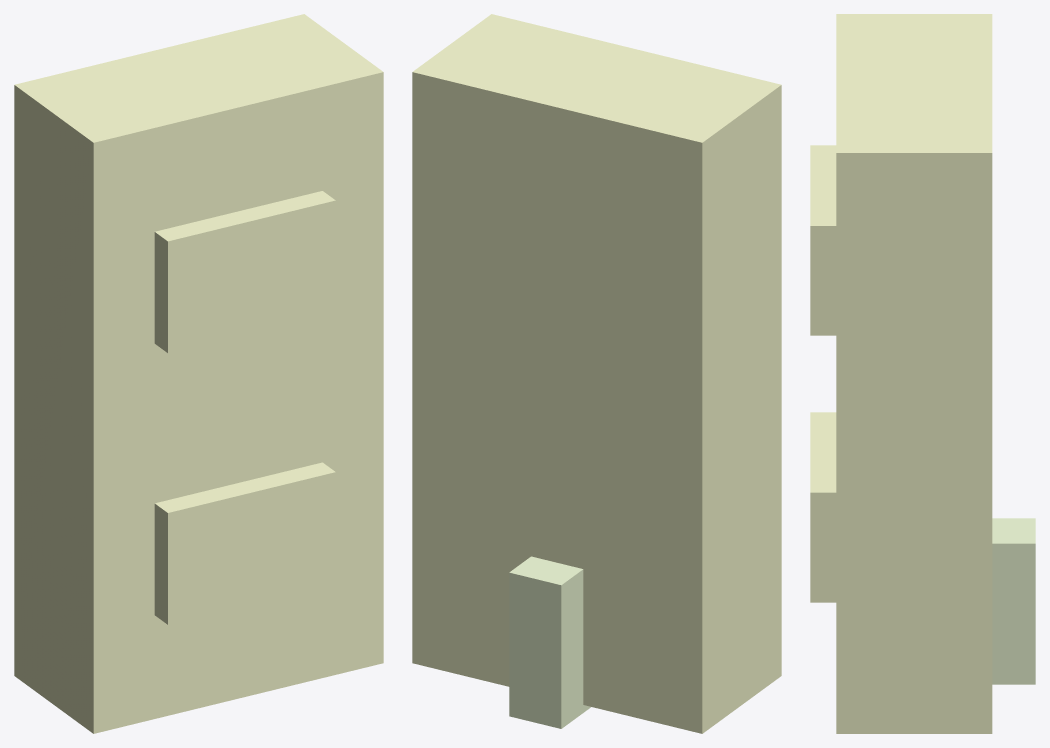
File: signal_lane_control_bicycle_only_2_aspect.glb
The picture shows the model from 3 angles, left to right: view 1: azimuth 30°, elevation 25°; view 2: azimuth 150°, elevation 25°; view 3: azimuth 270°, elevation 25°; orthographic projection.
Visible parts, largest first — view 1: housing, display_bike_green, display_red_x; view 2: housing, bracket; view 3: housing, bracket, display_red_x, display_bike_green.
Part boxes in pixels (bbox=[...]): housing: bbox=[14, 14, 383, 733]; display_bike_green: bbox=[154, 462, 335, 624]; display_red_x: bbox=[154, 191, 335, 353]; housing: bbox=[412, 14, 781, 733]; bracket: bbox=[509, 556, 590, 728]; housing: bbox=[836, 14, 992, 733]; bracket: bbox=[992, 518, 1035, 684]; display_red_x: bbox=[810, 145, 836, 335]; display_bike_green: bbox=[810, 412, 836, 602].
Bounding box in the file's own units: 0.38 × 0.75 × 0.26.
